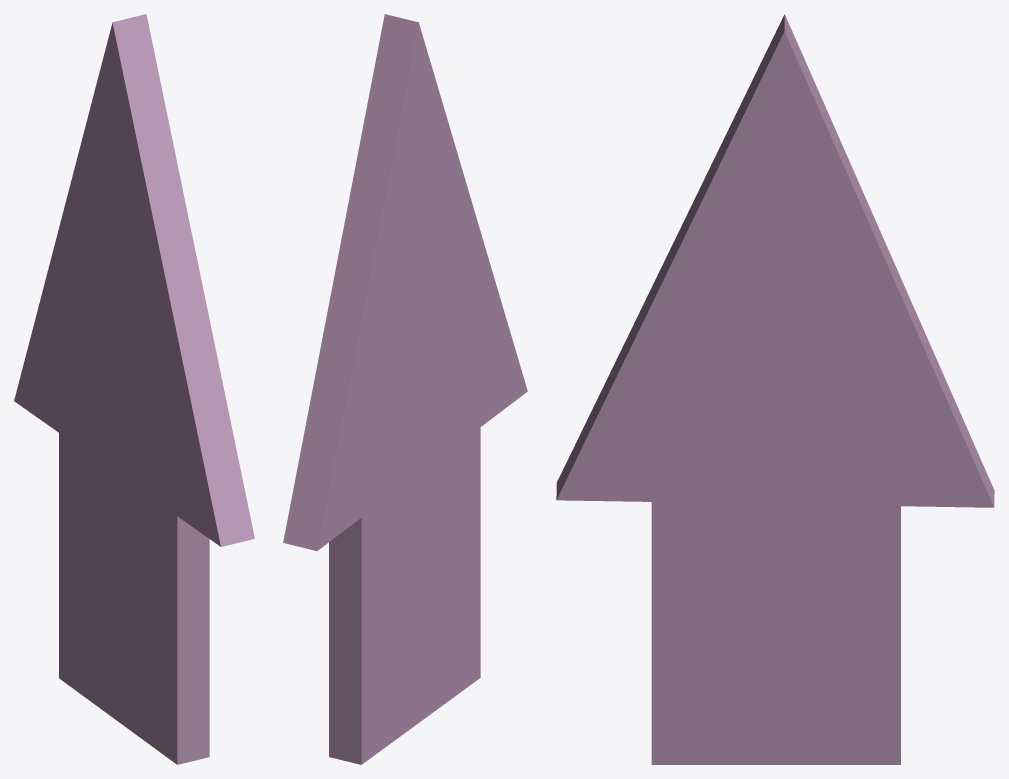
The model's file is PR_arrow.fbx.
3 views of the same model, side by side, from view 1: azimuth 30°, elevation 25°; view 2: azimuth 150°, elevation 25°; view 3: azimuth 270°, elevation 25° (orthographic). The views are drawn at different scales.
Visible parts, largest first — view 1: PR_arrow_01; view 2: PR_arrow_01; view 3: PR_arrow_01.
Boxes of the visible parts, x1=… form: PR_arrow_01: x1=14, y1=14, x2=254, y2=764; PR_arrow_01: x1=283, y1=14, x2=527, y2=764; PR_arrow_01: x1=556, y1=14, x2=994, y2=764.
Size of the model in its own units: 0.03 by 0.5701 by 0.3086.
